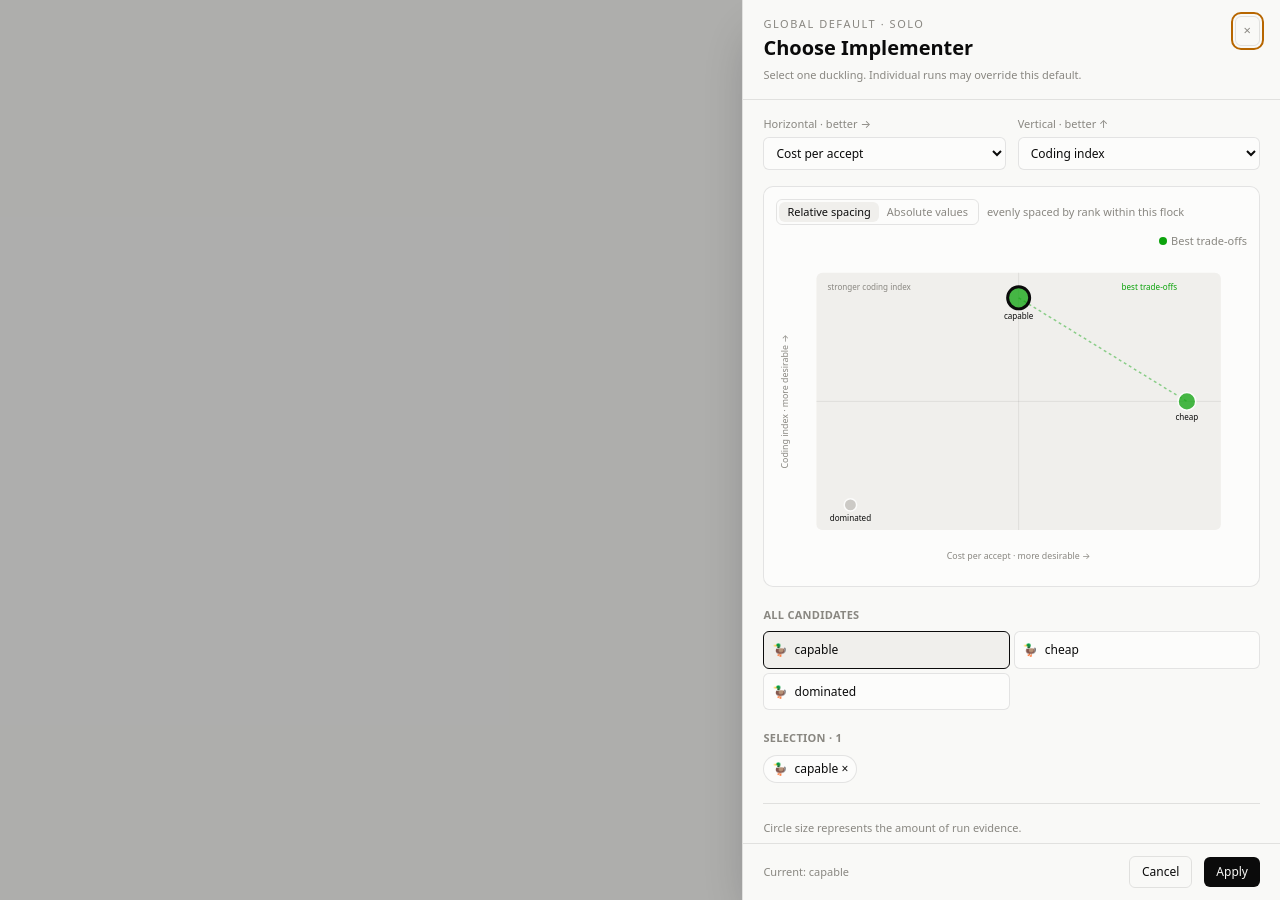
Test: duckling map › keeps the drawer open and explains a failed write
Click the button "Apply".
click(1232, 872)  # box [1204,857,1260,887]
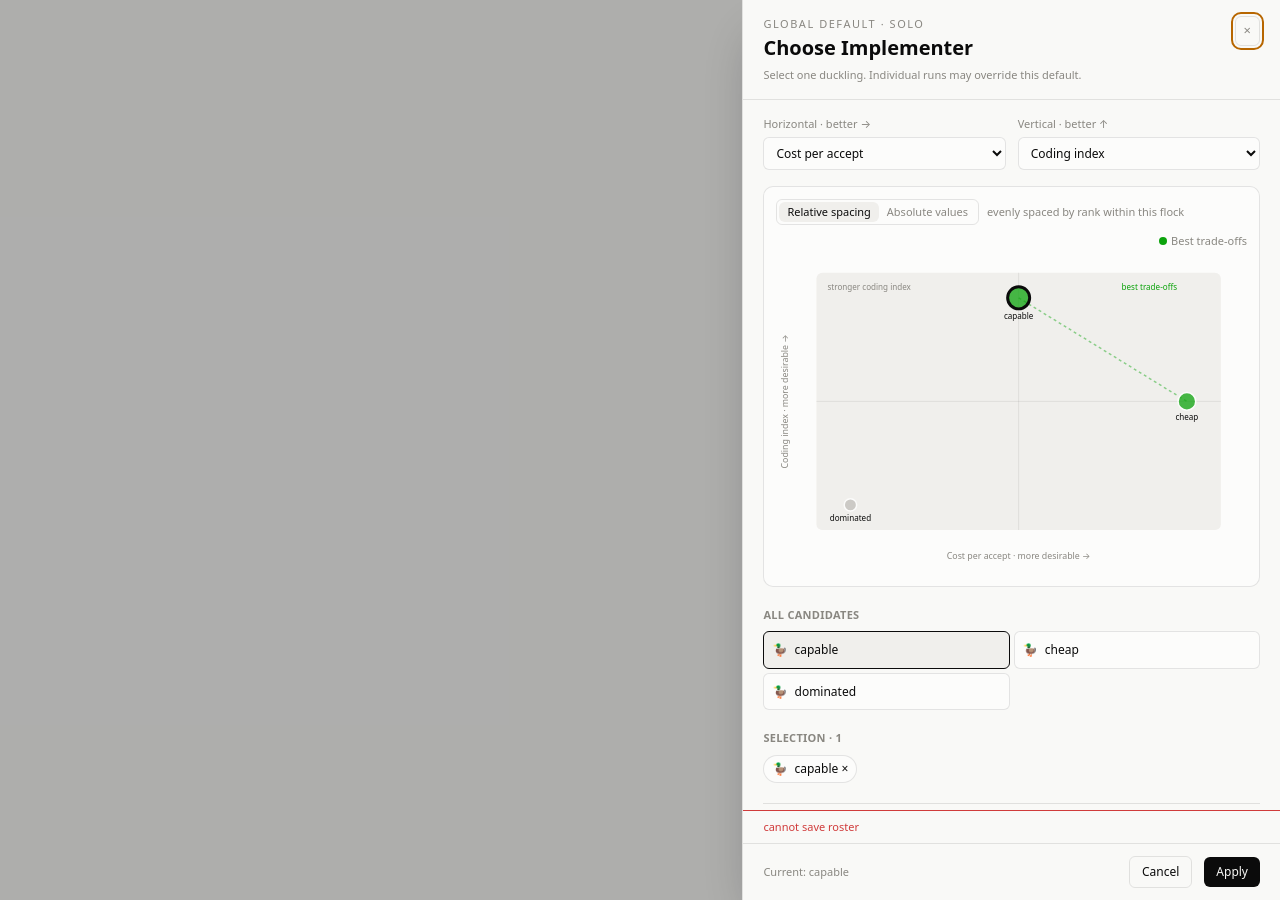
Expected: the dialog with test id "duckling-picker-drawer" is shown, [742,0,1279,899]
Expected: the message reads "cannot save roster", [763,818,859,834]
